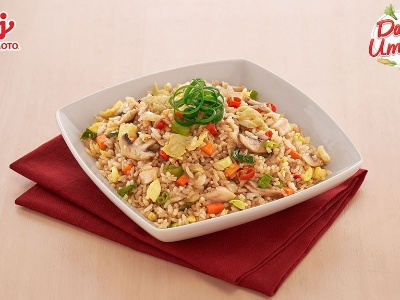nasigoreng: (81, 85, 330, 213)
